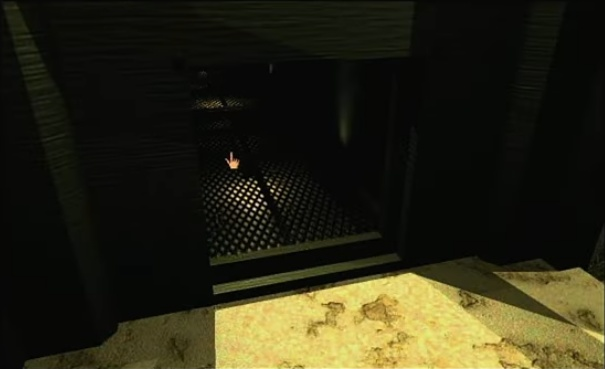Pointer: (222, 149, 244, 171)
